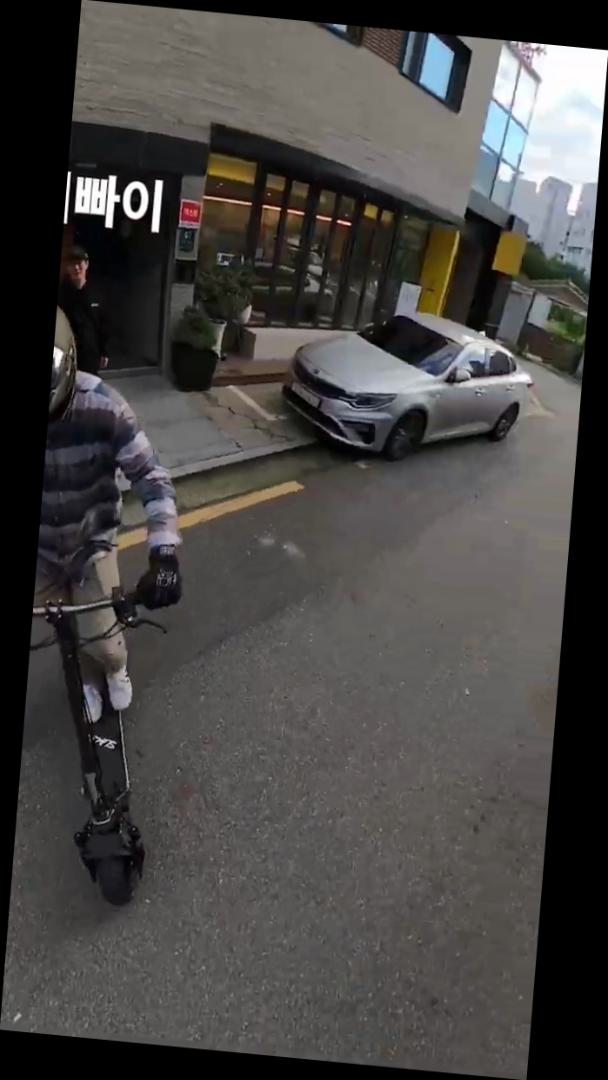helmet: (11, 303, 205, 914)
